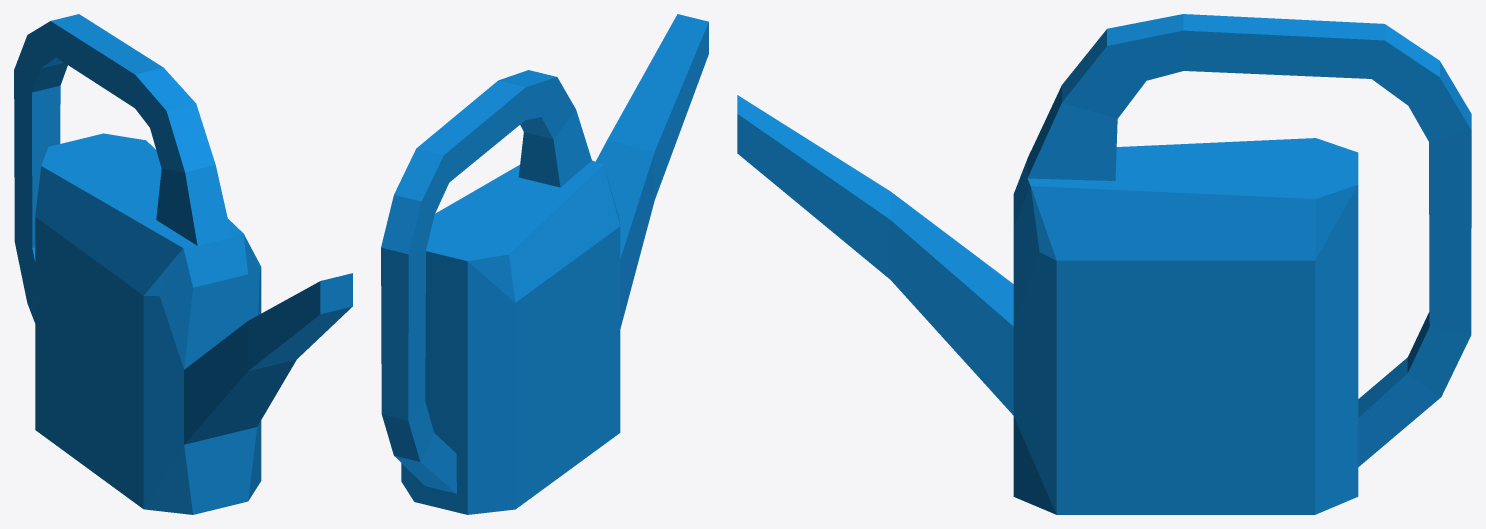
Rendered from WateringCan.fbx.
The picture shows the model from 3 angles, left to right: view 1: azimuth 30°, elevation 25°; view 2: azimuth 150°, elevation 25°; view 3: azimuth 270°, elevation 25°; orthographic projection. The views are drawn at different scales.
Visible parts, largest first — view 1: Cube; view 2: Cube; view 3: Cube.
Part boxes in pixels (x1,y1,x2,y2): Cube: [14, 14, 352, 514]; Cube: [381, 14, 708, 514]; Cube: [737, 14, 1471, 514].
Size of the model in its own units: 144 by 450 by 654.
